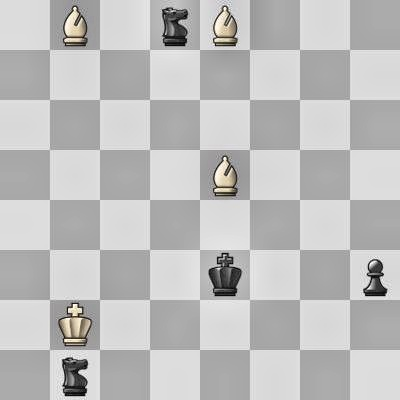black-king: (200, 250, 250, 300)
black-knight: (150, 0, 200, 50), (50, 350, 100, 400)
black-pawn: (350, 250, 400, 300)
white-bishop: (50, 0, 100, 50), (200, 0, 250, 50), (200, 150, 250, 200)
white-king: (50, 300, 100, 350)
